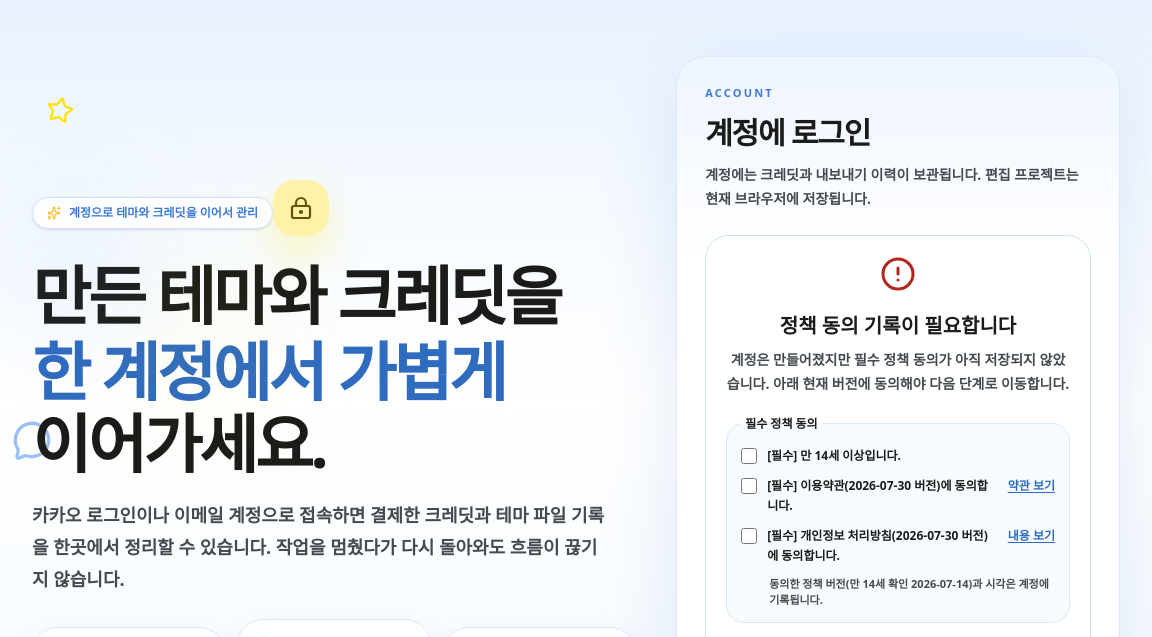
Test: LoginClient email signup consent failure › persisted consent retry › asks again with the current versions when the server reports a policy rollover
Click the checkbox labelled "[필수] 만 14세 이상입니다.".
click(749, 456)  # box [741,448,757,464]
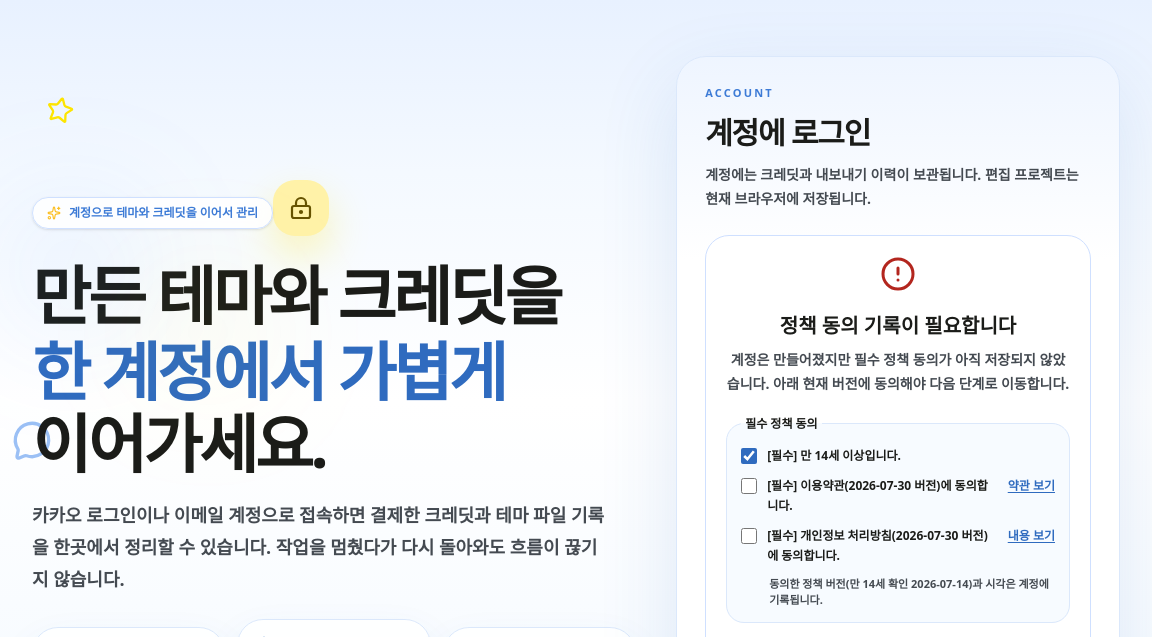
Click the checkbox labelled "[필수] 이용약관(2026-07-30 버전)에 동의합니다.".
click(749, 486)  # box [741,478,757,494]
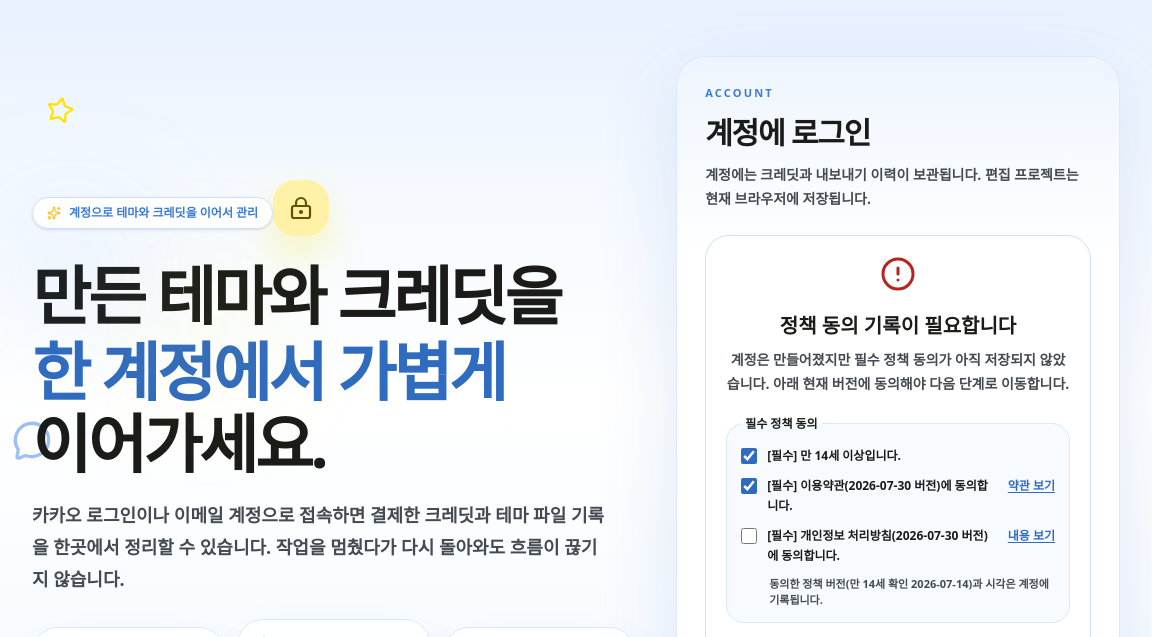
Click the checkbox labelled "[필수] 개인정보 처리방침(2026-07-30 버전)에 동의합니다.".
click(749, 536)  # box [741,528,757,544]
(page scrolled)
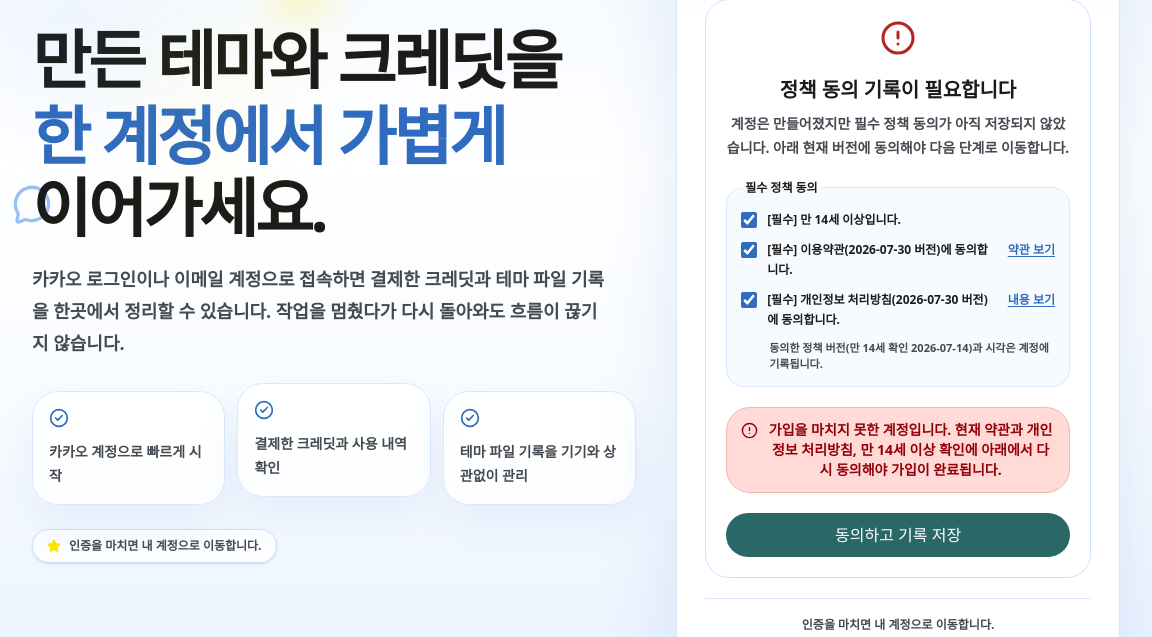
Click the button "동의하고 기록 저장".
click(898, 534)  # box [726,512,1070,556]
(page scrolled)
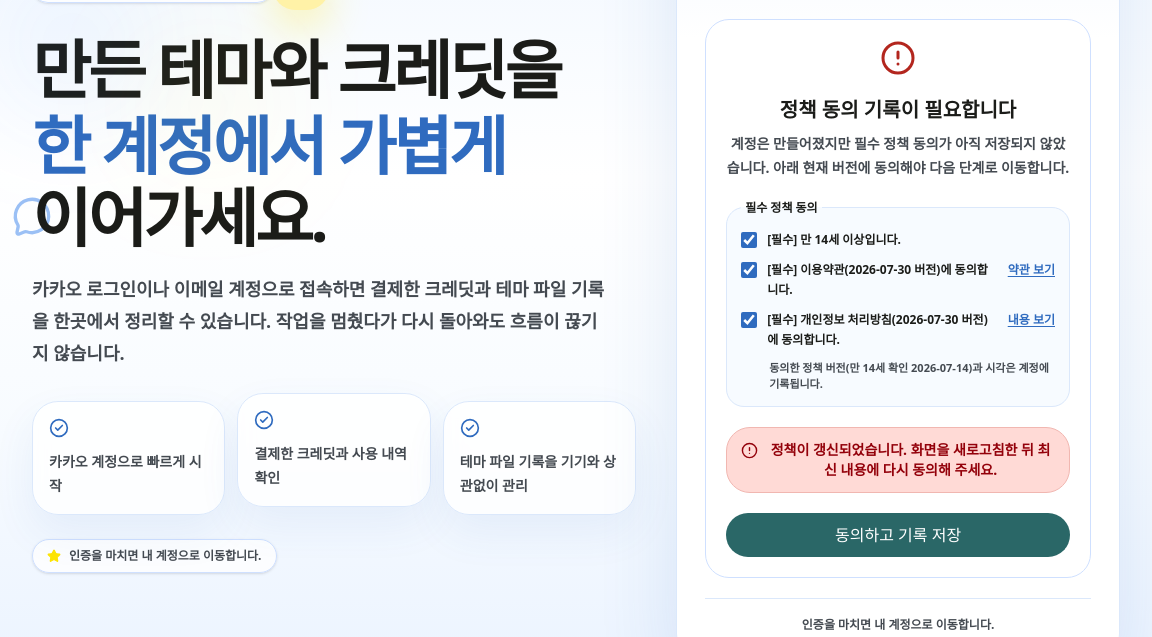
expect the text "정책이 갱신되었습니다. 화면을 새로고침한 뒤 최신 내용에 다시 동의해 주세요." is shown: met, box [726,426,1070,492]
